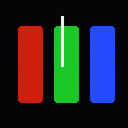4 line_v: (61, 16, 63, 66)
